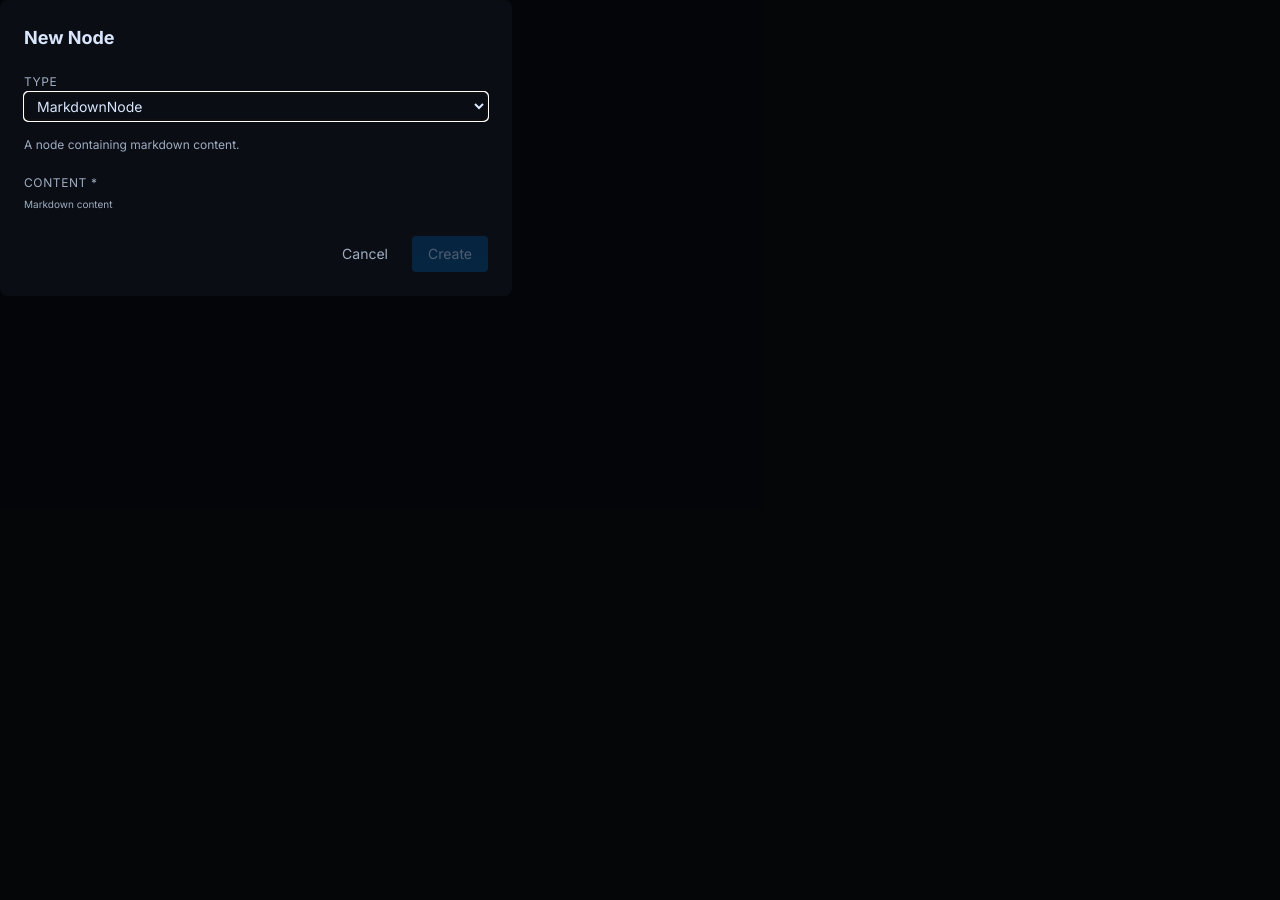
Scenario: NewNodeDialog › disables Create when a required field is empty and enables it once filled
Check: the button "Create" is disabled, box [412,236,488,272]
Type "hello" into the field at {"x": 214, "y": 181}, box [98,169,332,193]
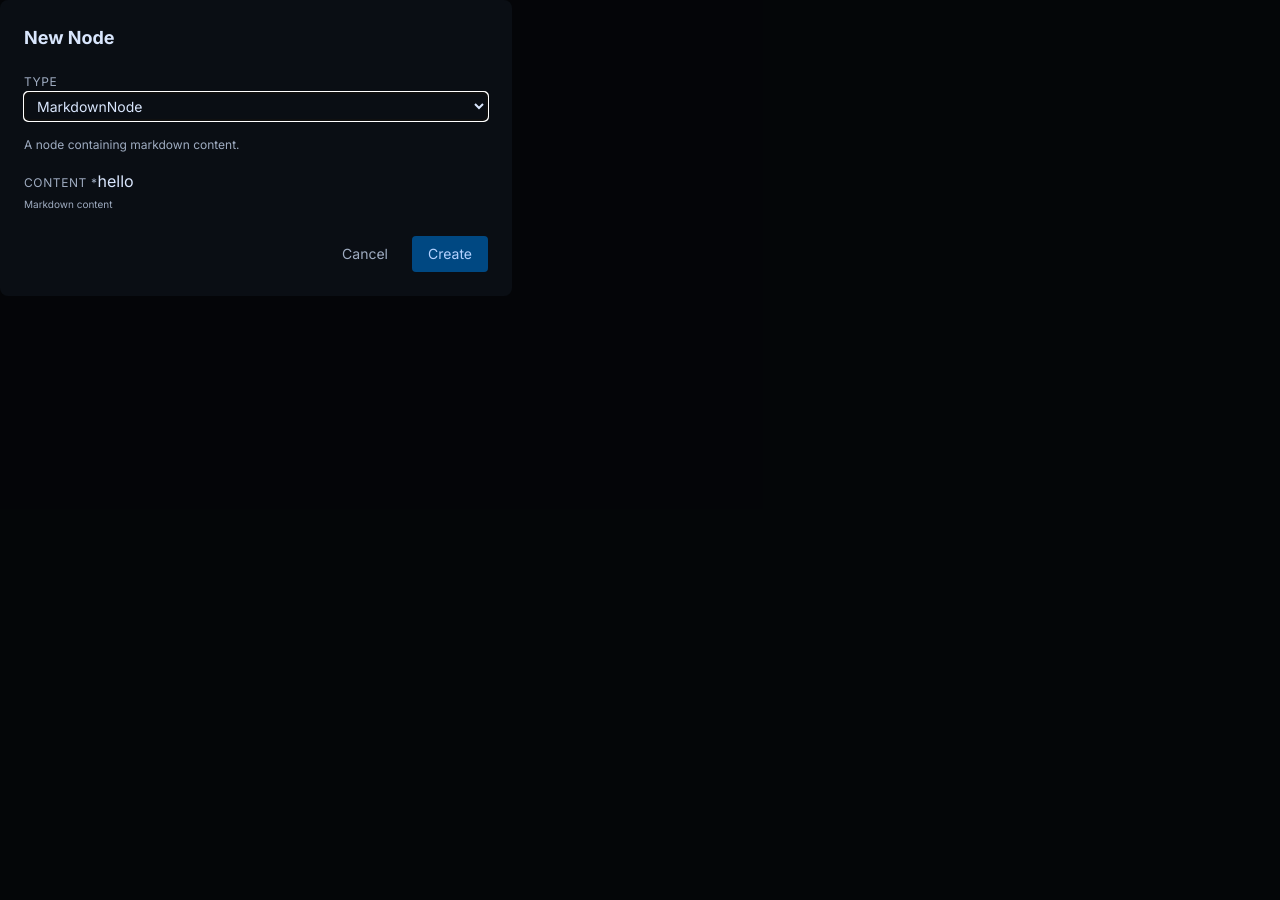
Check: the button "Create" is enabled, box [412,236,488,272]
